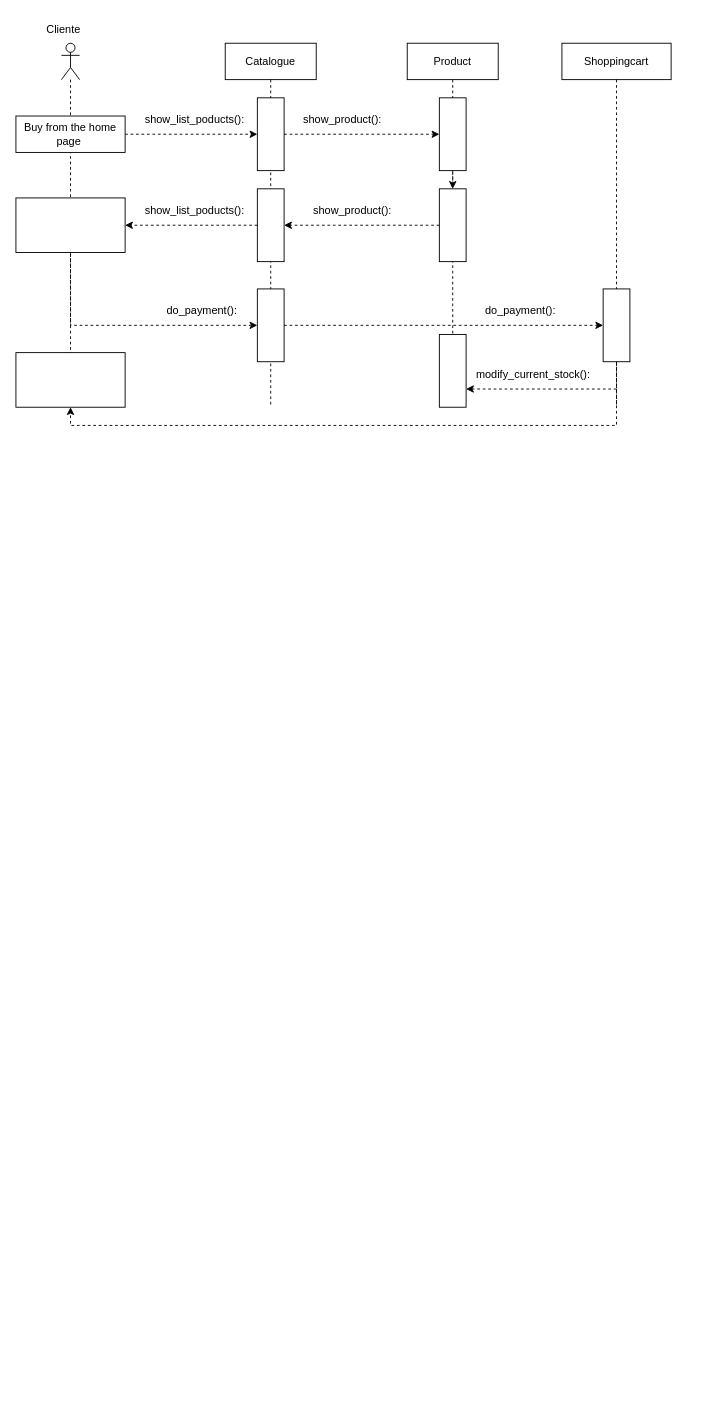
This 714x1422 diagram has some shape labels left out. The box of each missing label's shape, as (x1, y1, x2, y2) in pixels:
select product: (15, 197, 125, 253)
succesfull purchase: (15, 352, 125, 407)
